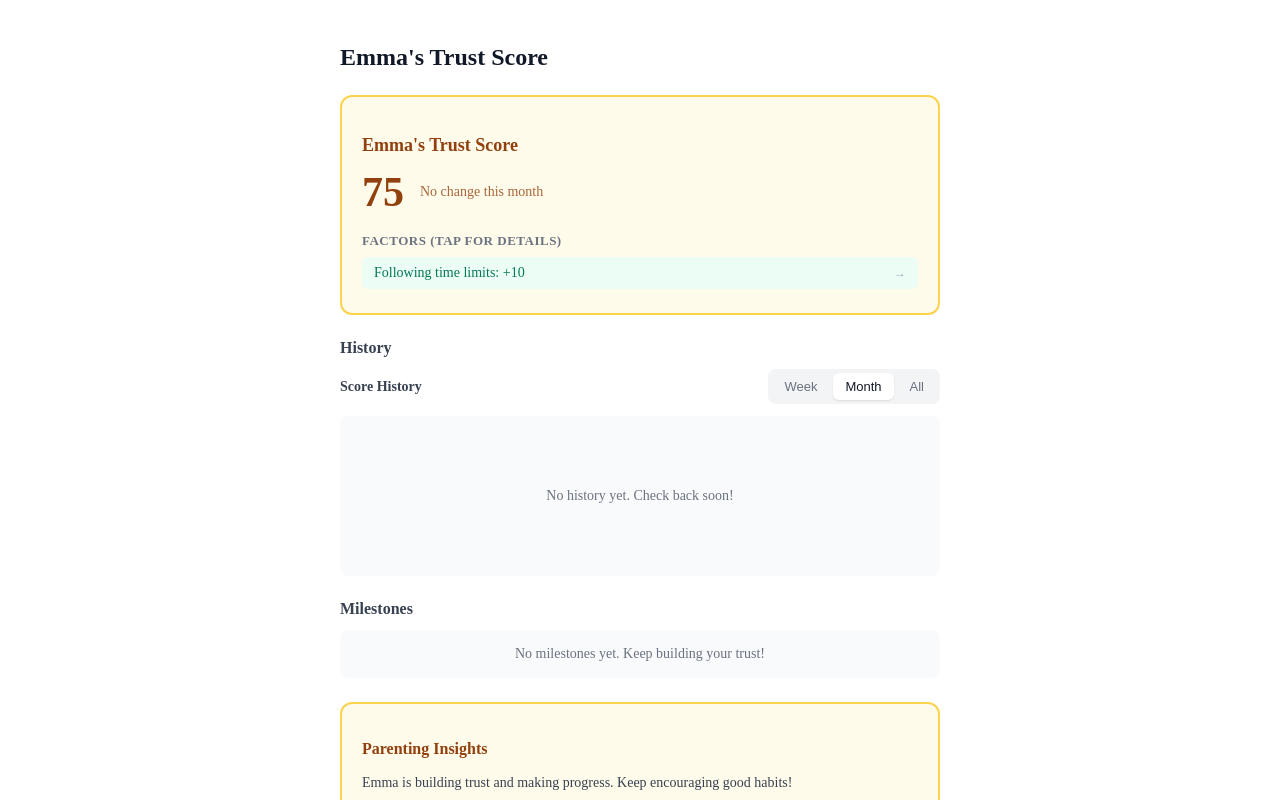
Test: ParentTrustScoreView - Story 36.4 Task 6 › Factor detail modal › should open modal when factor is clicked
The width and height of the screenshot is (1280, 800).
Click the button with test id "parent-factor-0".
click(449, 273)  # box [362,257,918,289]
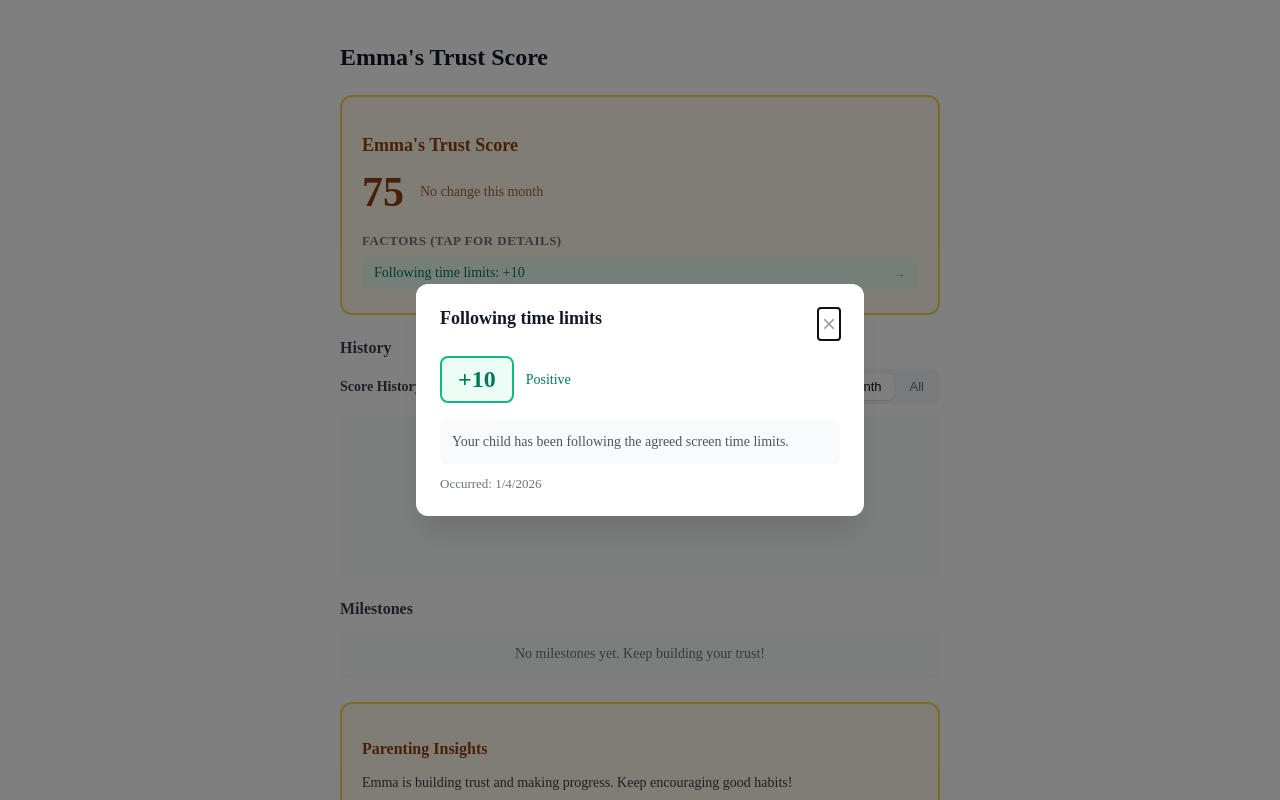
Expected: the element with test id "factor-detail-modal" is shown
